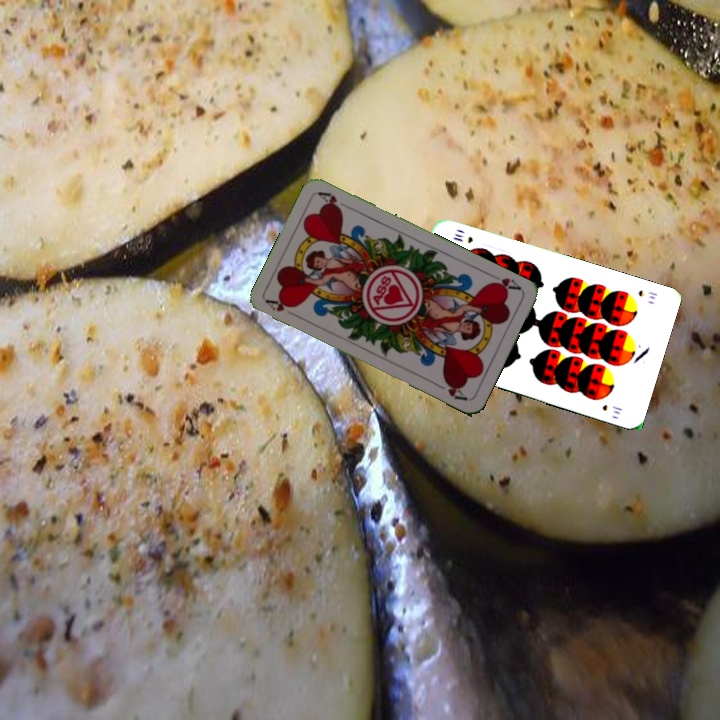HA: (262, 295, 301, 320), (486, 273, 524, 295)
S10: (634, 286, 660, 302)
